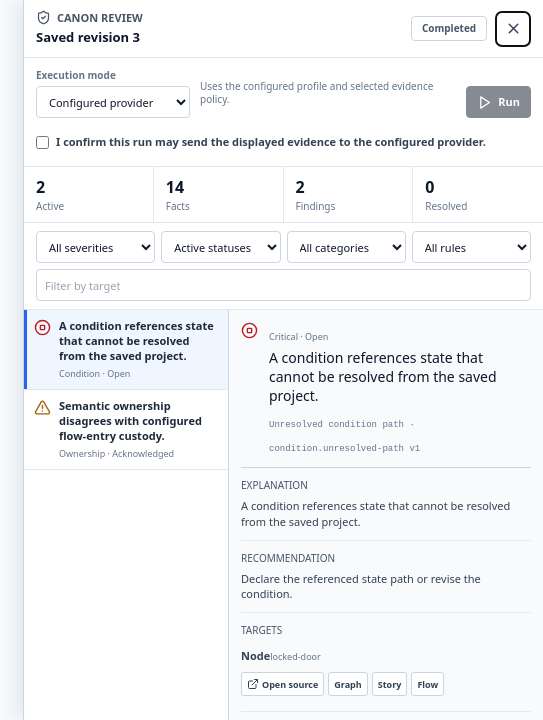
Scenario: CanonWorkspace › requires fresh consent for every configured-provider run
The image size is (543, 720).
Expected: the button "Run" is disabled, [466,86,531,118]
Click the checkbox labelled "I confirm this run": (42, 142) [36,136,49,148]
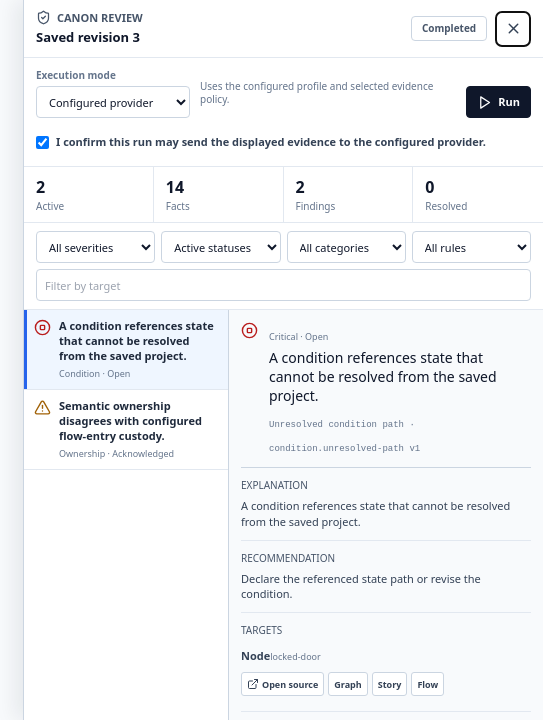
Result: the button "Run" is enabled
Click the button "Run": (499, 102) [466,86,531,118]
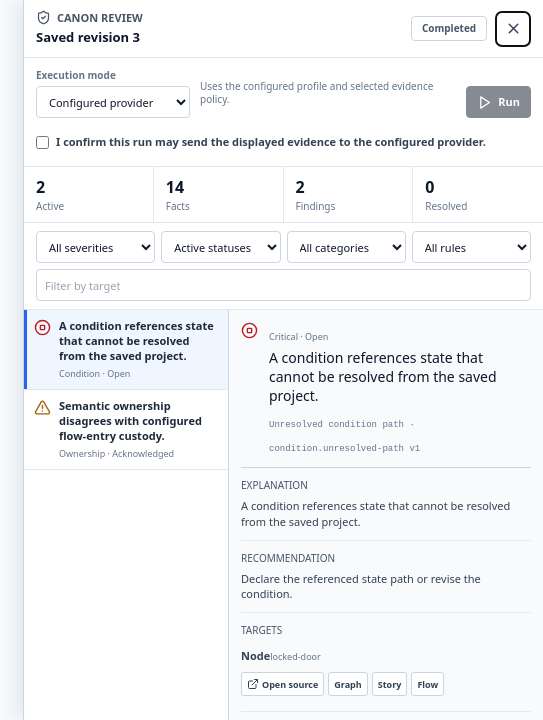
Result: the button "Run" is disabled at [466,86,531,118]
